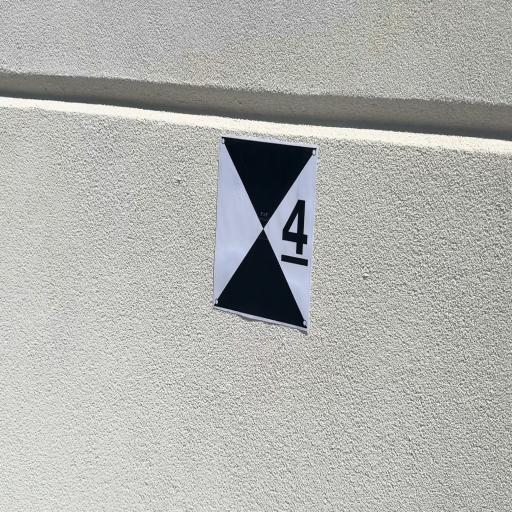target4: (213, 136, 318, 337)
